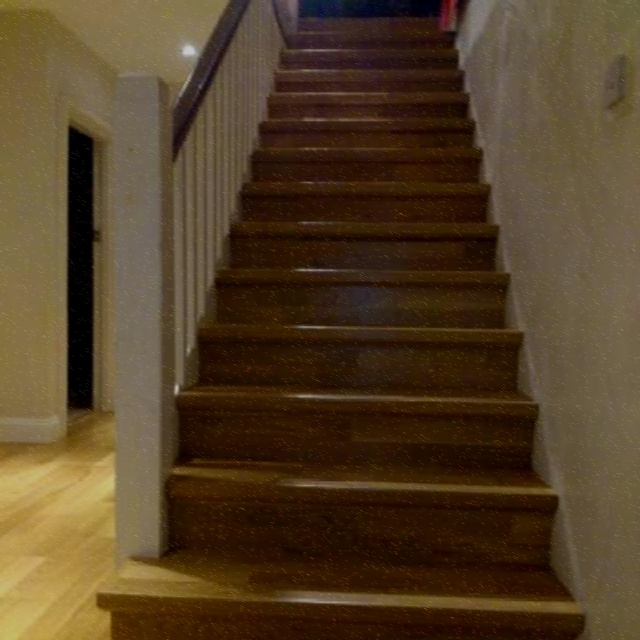stair: (69, 10, 588, 639)
